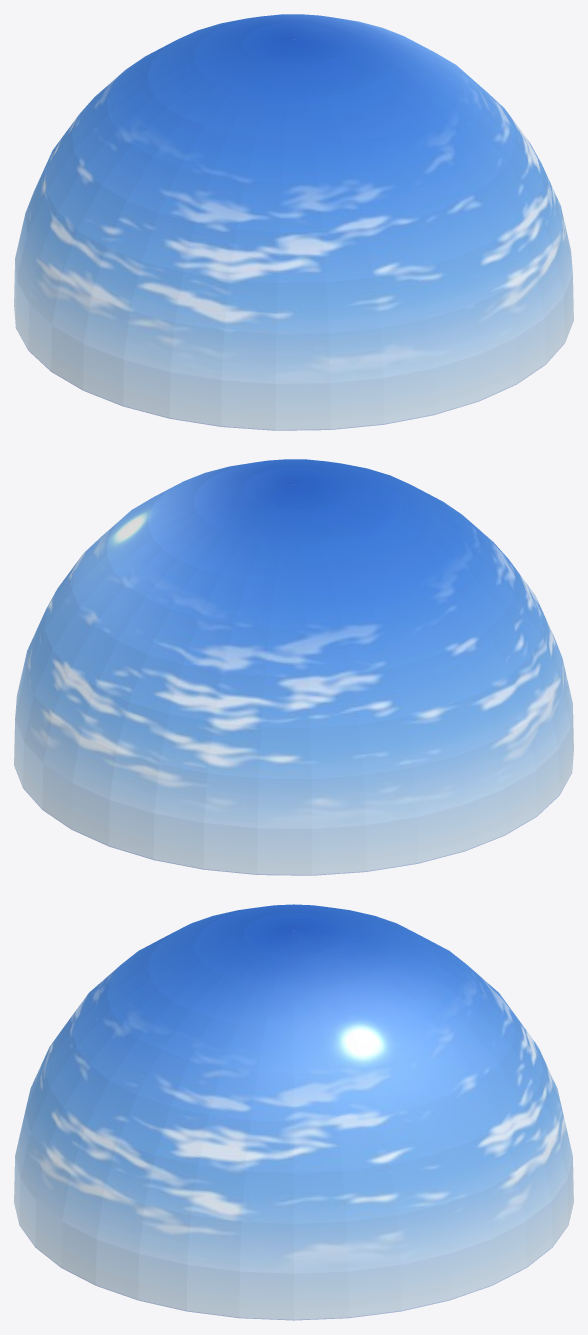
The model's file is lugar-roma-ciudad.glb.
3 views of the same model, one above another, from view 1: azimuth 30°, elevation 25°; view 2: azimuth 150°, elevation 25°; view 3: azimuth 270°, elevation 25° (orthographic).
Parts seen in each view (by area): view 1: planoC; view 2: planoC; view 3: planoC.
Part boxes in pixels (box(x1,y1,x2,y2)): planoC: box(14, 14, 573, 430); planoC: box(14, 459, 573, 875); planoC: box(14, 904, 573, 1320).
Bounding box in the file's own units: 5985 × 3209 × 5985.
Materials: 21 (18 with a texture image).
